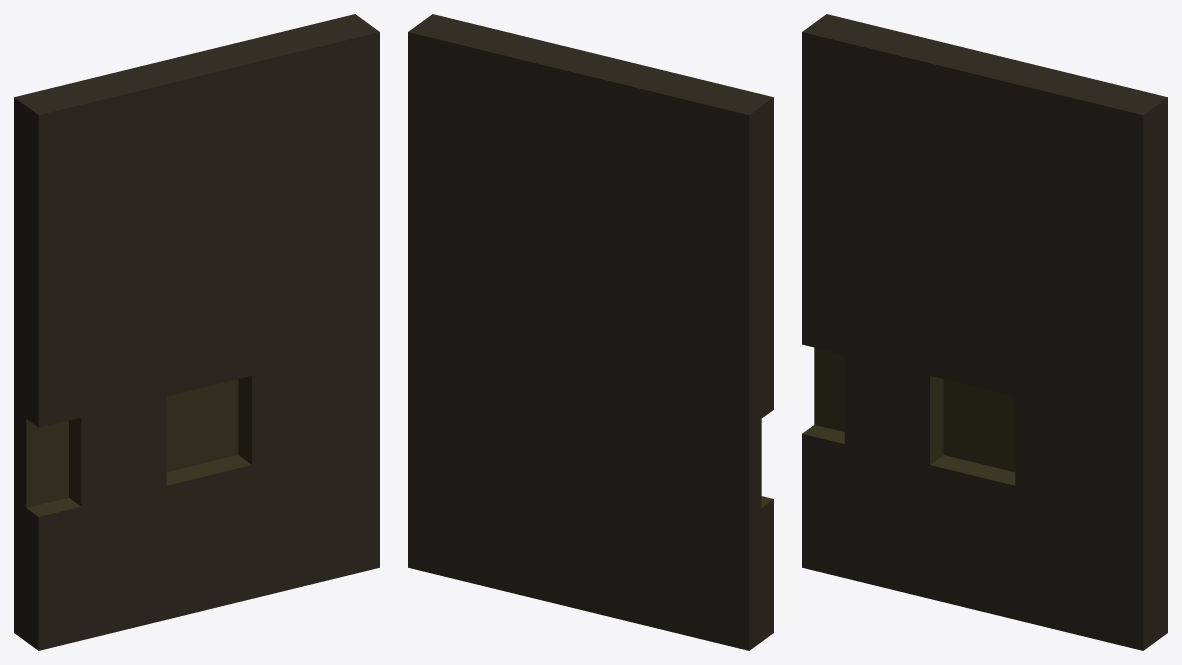
Rendered from Right_Gate.fbx.
3 renders of one model, left to right at view 1: azimuth 30°, elevation 25°; view 2: azimuth 150°, elevation 25°; view 3: azimuth 330°, elevation 25°, orthographic.
Visible parts, largest first — view 1: pCube4; view 2: pCube4; view 3: pCube4.
Boxes of the visible parts, box(x1,y1,x2,y2) form: pCube4: box(14, 14, 379, 650); pCube4: box(408, 14, 773, 650); pCube4: box(802, 14, 1167, 650).
Bounding box in the file's own units: 4 × 6 × 0.5.
